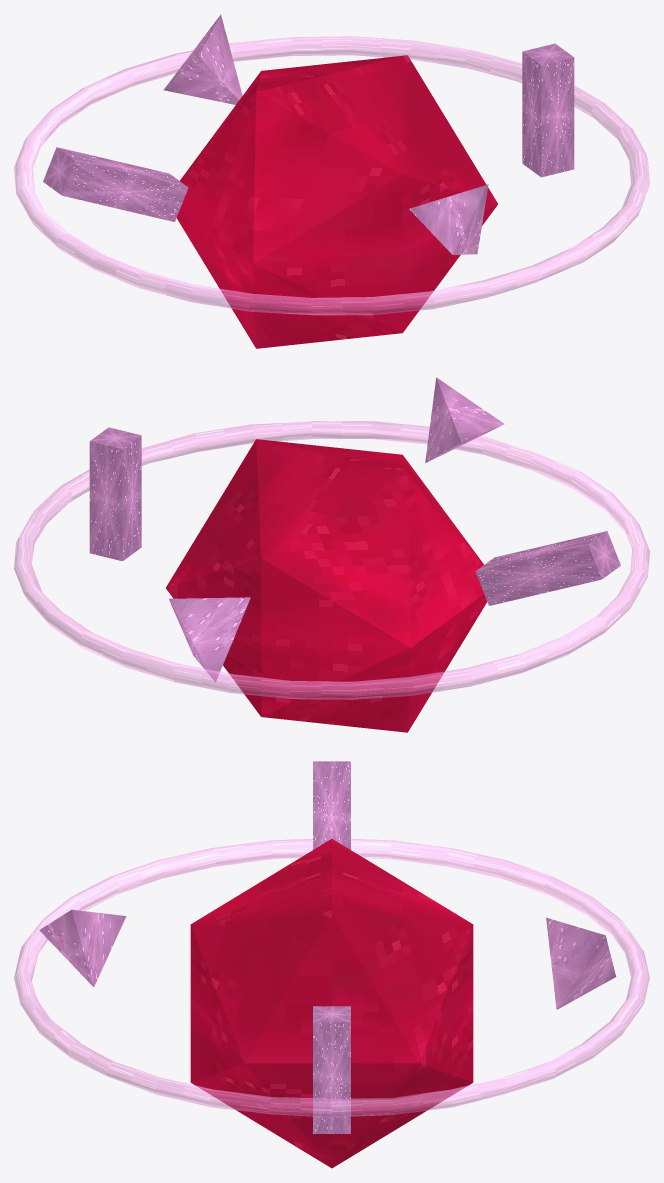
Rendered from anomaly-cluster-rose.medium.glb.
The picture shows the model from 3 angles, top to bottom: view 1: azimuth 30°, elevation 25°; view 2: azimuth 150°, elevation 25°; view 3: azimuth 270°, elevation 25°; orthographic projection.
Parts seen in each view (by area): view 1: shell, ring, orbital-0; view 2: shell, ring, orbital-0; view 3: shell, ring, orbital-0.
Part boxes in pixels (x1,y1,x2,y2): shell: (176,55,497,348); ring: (14,36,649,315); orbital-0: (43,14,574,254); shell: (166,439,487,732); ring: (14,421,649,699); orbital-0: (89,377,620,681); shell: (190,839,473,1168); ring: (14,838,649,1117); orbital-0: (39,761,616,1133).
Bounding box in the file's own units: 2.7 × 1.19 × 2.68.
Materials: 3 (3 with a texture image).
